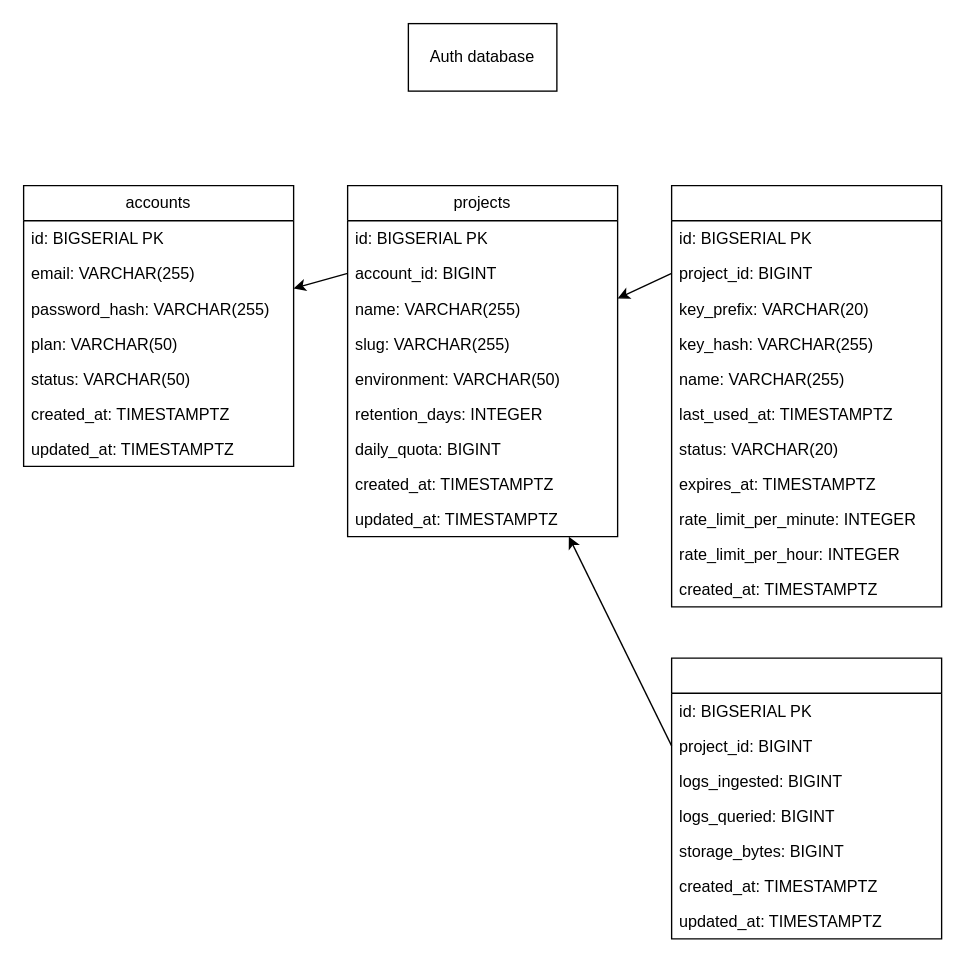
This 965x967 diagram has some shape labels left out. The box of each missing label's shape, as (x1, y1, x2, y2) in pixels:
api_keys: (670, 184, 942, 607)
daily_usage: (670, 657, 942, 939)
